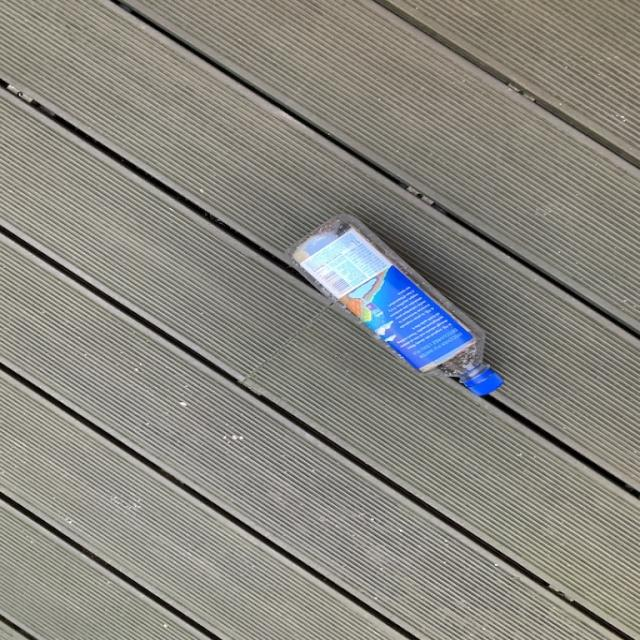Waste: (289, 216, 504, 396)
